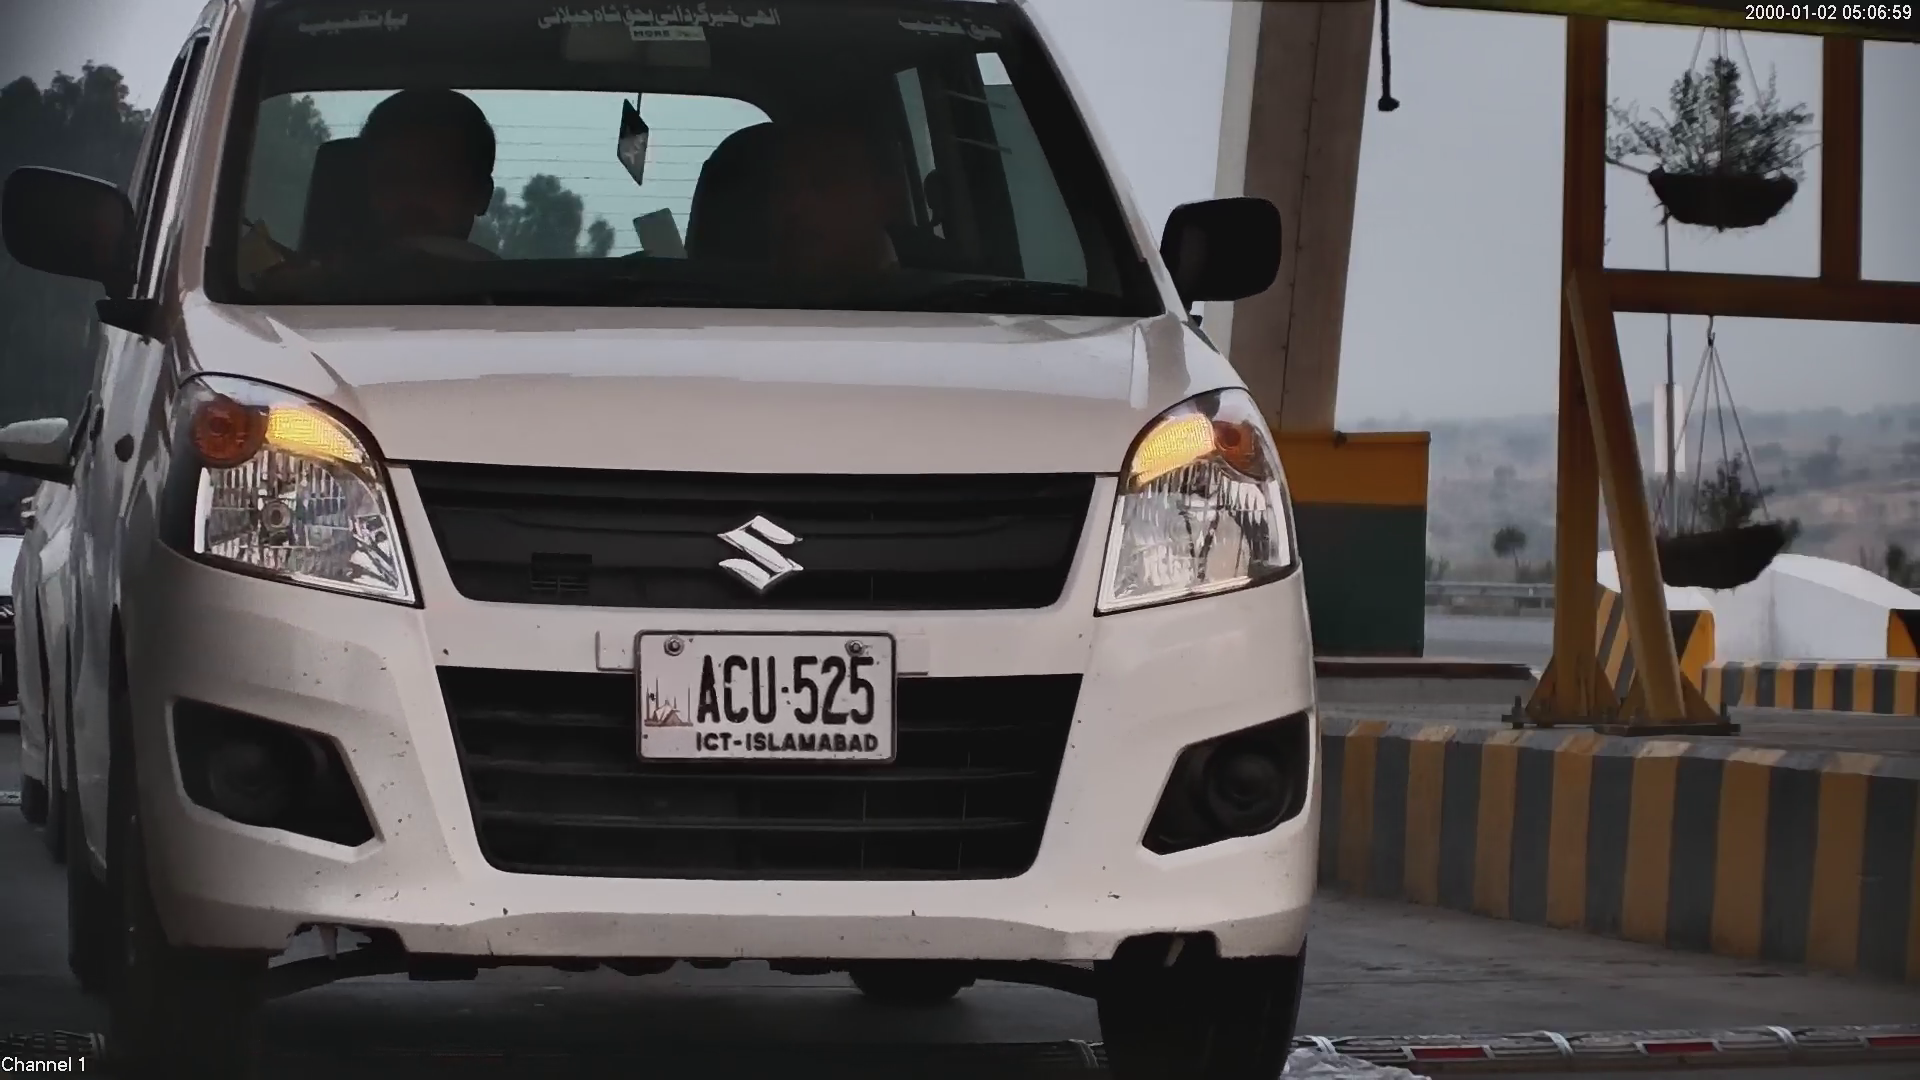Number_Plate: (624, 616, 908, 776)
